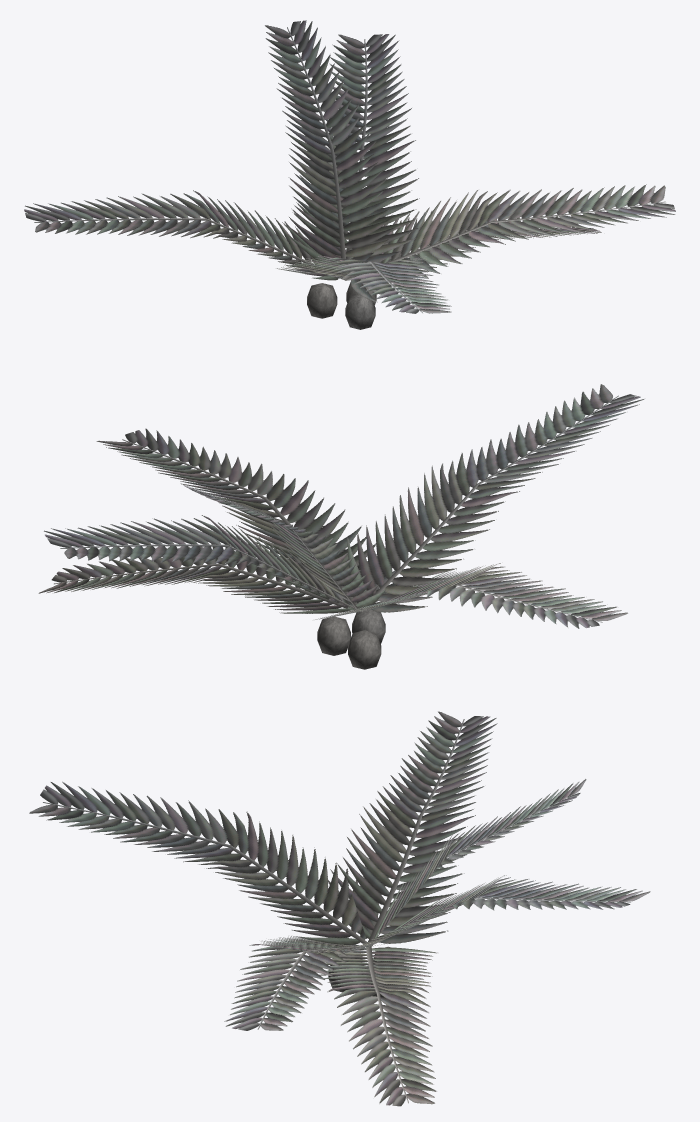
File: palm_short_l1.gltf
The picture shows the model from 3 angles, top to bottom: view 1: azimuth 30°, elevation 25°; view 2: azimuth 150°, elevation 25°; view 3: azimuth 270°, elevation 25°; orthographic projection. The views are drawn at different scales.
Parts seen in each view (by area): view 1: palm_short_l1; view 2: palm_short_l1; view 3: palm_short_l1.
Boxes of the visible parts, <box> form: palm_short_l1: <box>24,20,675,329</box>; palm_short_l1: <box>38,384,644,669</box>; palm_short_l1: <box>29,711,650,1106</box>.
Bounding box in the file's own units: 6.11 × 2.21 × 5.87.
1 material, 1 textured.
